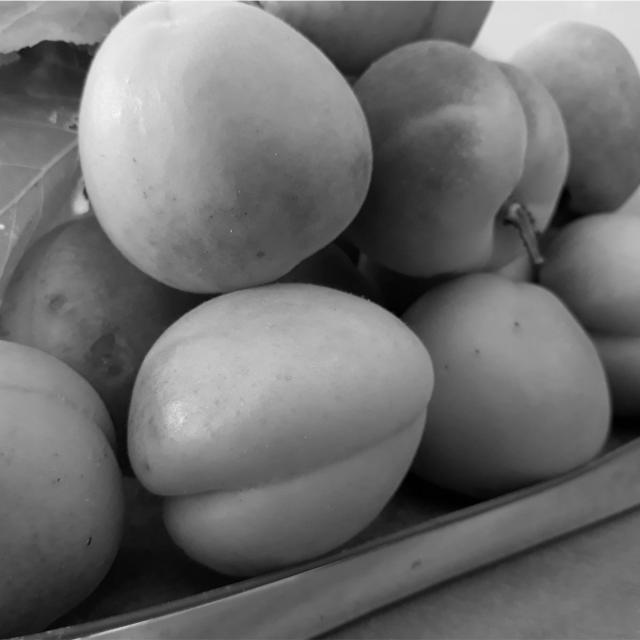Kayisi: (127, 285, 428, 564), (83, 2, 377, 287), (353, 46, 565, 273), (401, 274, 610, 495)
Kayisi Yapragi: (0, 68, 77, 285)
